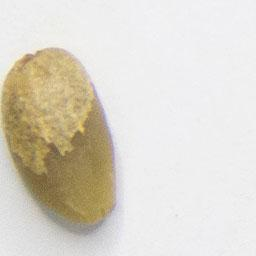longberry: (0, 44, 122, 231)
